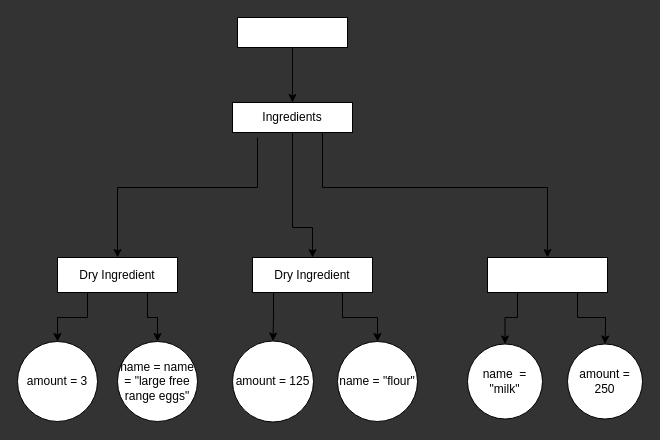
The diagram is 660 pixels wide and 440 high, and some of its shapes have lost their labels. Each missing label, with the centre of its shape:
"Recipe" belongs at (x=292, y=32).
"Wet Ingredient" belongs at (x=547, y=274).
